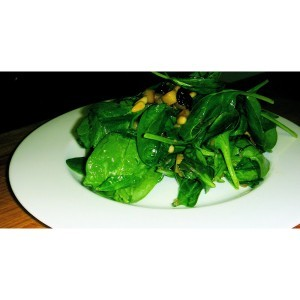spinach_brain food: (78, 84, 277, 202)
